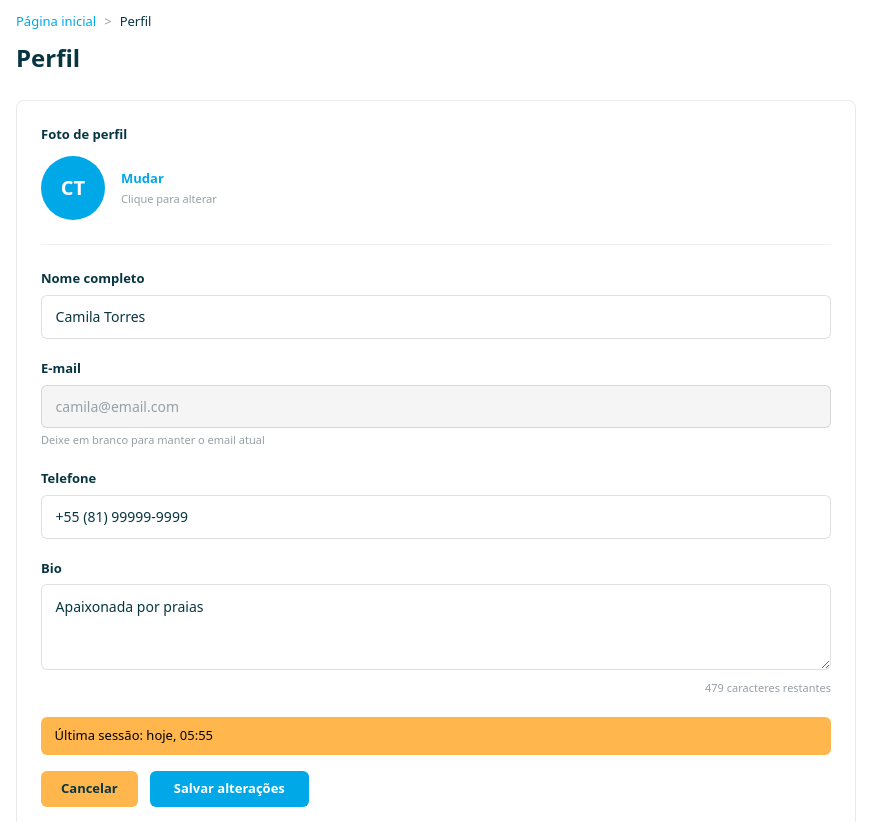
Test: AccountComponent › should show error feedback on save failure and allow retry
Replace the text in the field with test id "name-input" with "Camila Atualizada": (436, 317) [41, 295, 831, 339]
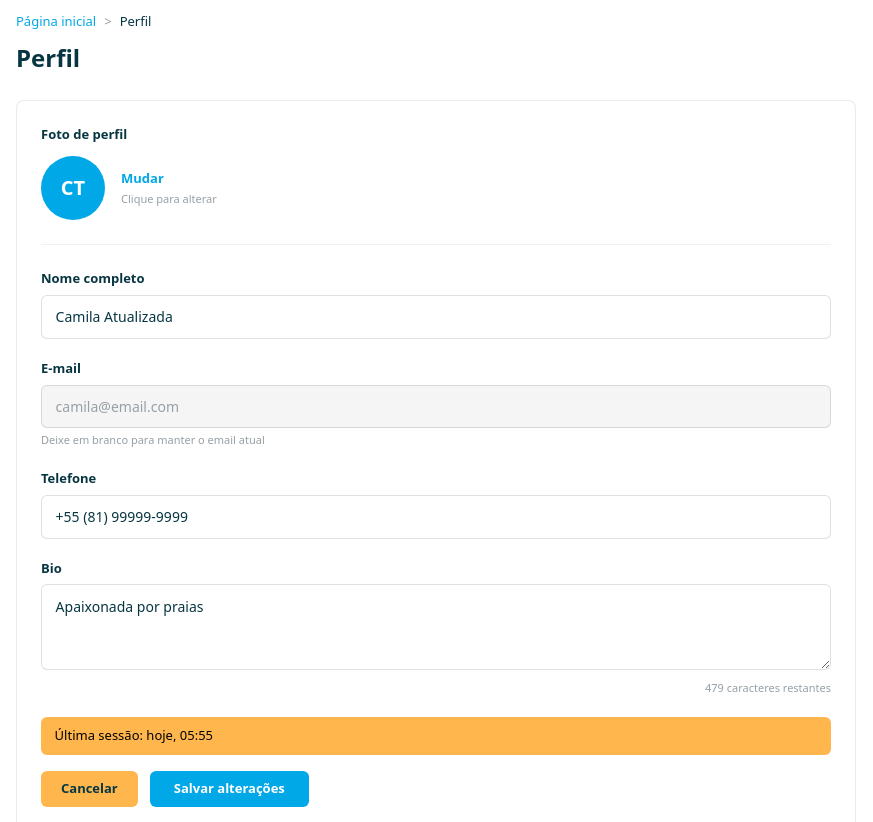
Click the button with test id "save-btn": (229, 789) [150, 771, 309, 807]
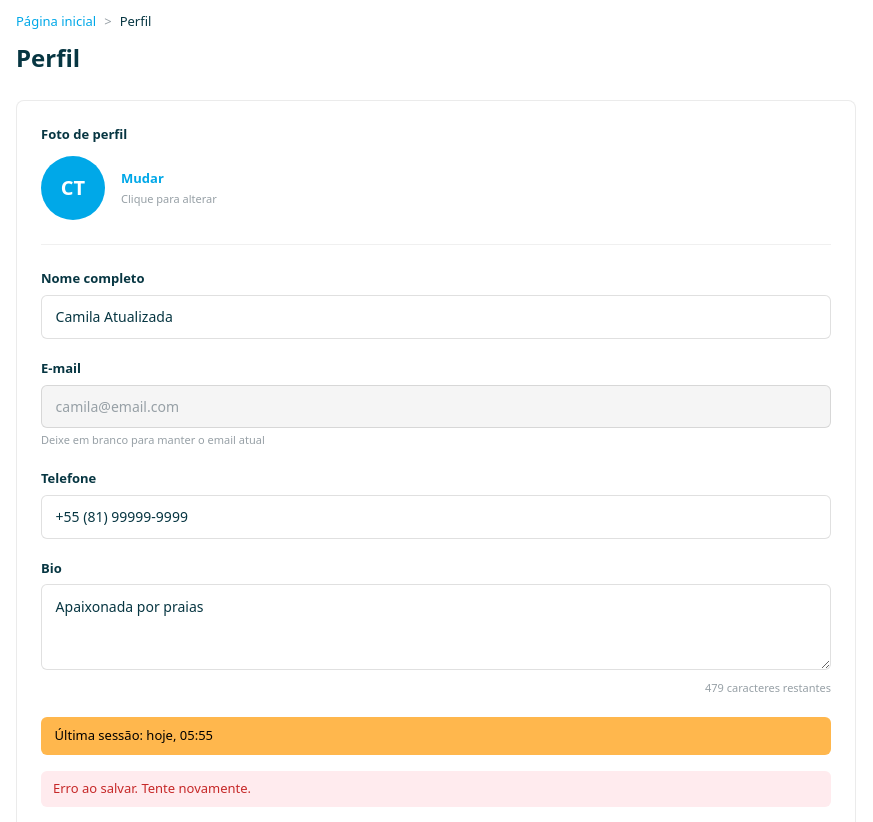
Expected: the text "Erro ao salvar. Tente novamente." is shown, [41, 771, 831, 807]
